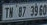character: (4, 6, 9, 19), (21, 5, 26, 18), (8, 6, 13, 18), (17, 5, 22, 17), (30, 4, 35, 16), (33, 5, 38, 16)
